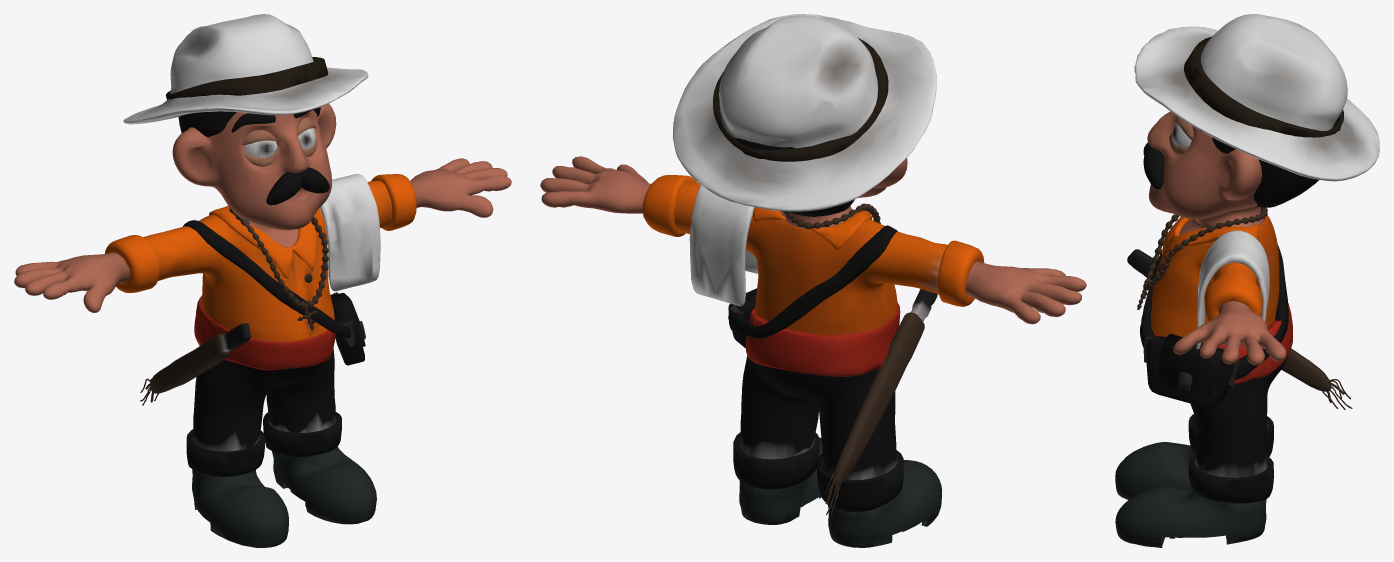
The model's file is Paisanoo.fbx.
3 views of the same model, side by side, from view 1: azimuth 30°, elevation 25°; view 2: azimuth 150°, elevation 25°; view 3: azimuth 270°, elevation 25° (orthographic). The views are drawn at different scales.
Parts seen in each view (by area): view 1: PM3D_Cube3D1; view 2: PM3D_Cube3D1; view 3: PM3D_Cube3D1.
Part boxes in pixels (left/top/right/bottom): PM3D_Cube3D1: left=14, top=14, right=511, bottom=547; PM3D_Cube3D1: left=540, top=14, right=1086, bottom=547; PM3D_Cube3D1: left=1115, top=14, right=1379, bottom=547.
Size of the model in its own units: 329 by 305 by 150.
